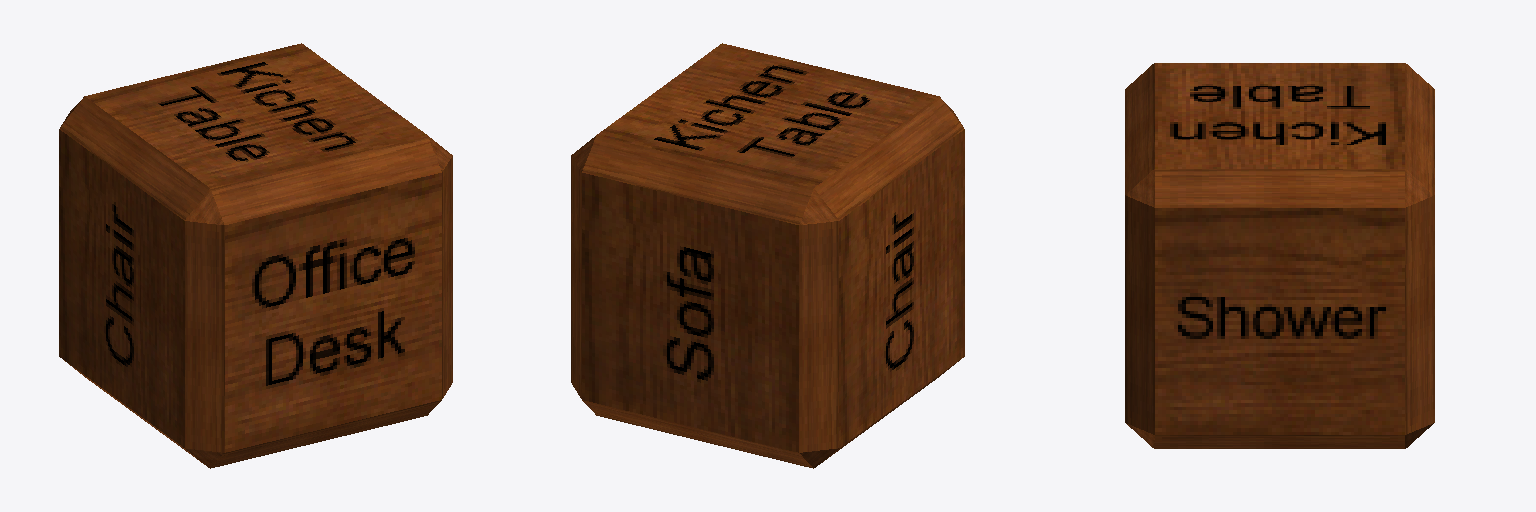
3 views of the same model, side by side, from view 1: azimuth 30°, elevation 25°; view 2: azimuth 150°, elevation 25°; view 3: azimuth 270°, elevation 25° (orthographic).
Parts seen in each view (by area): view 1: Cube; view 2: Cube; view 3: Cube.
Part boxes in pixels (x1,y1,x2,y2): Cube: (59, 43, 452, 468); Cube: (571, 43, 964, 468); Cube: (1125, 63, 1434, 448).
Bounding box in the file's own units: 2 × 2 × 2.
7 materials, 7 textured.